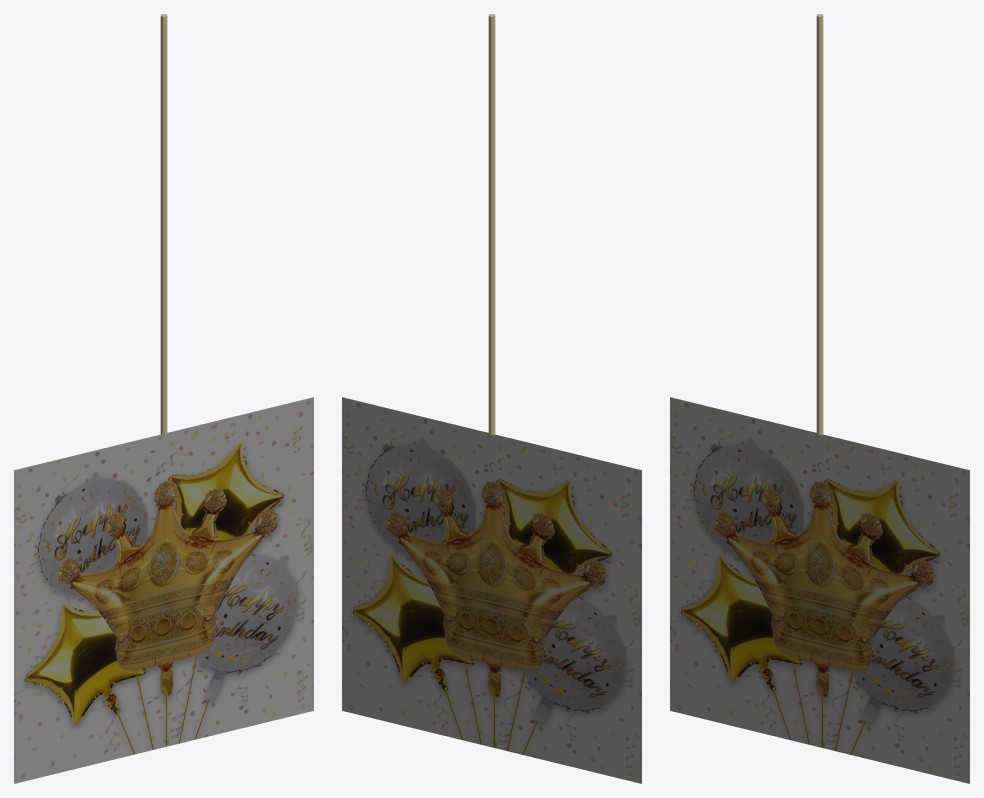
The model's file is B0BSR4QM8L.glb.
3 renders of one model, left to right at view 1: azimuth 30°, elevation 25°; view 2: azimuth 150°, elevation 25°; view 3: azimuth 330°, elevation 25°, orthographic.
Visible parts, largest first — view 1: photo, string; view 2: photo, string; view 3: photo, string.
Boxes of the visible parts, x1,y1,x2,y2 form: photo: [14, 397, 313, 783]; string: [160, 14, 167, 435]; photo: [342, 397, 641, 783]; string: [488, 14, 495, 435]; photo: [670, 397, 969, 783]; string: [816, 14, 823, 435].
Size of the model in its own units: 0.3 by 0.7 by 0.006.
Materials: 1 (1 with a texture image).
